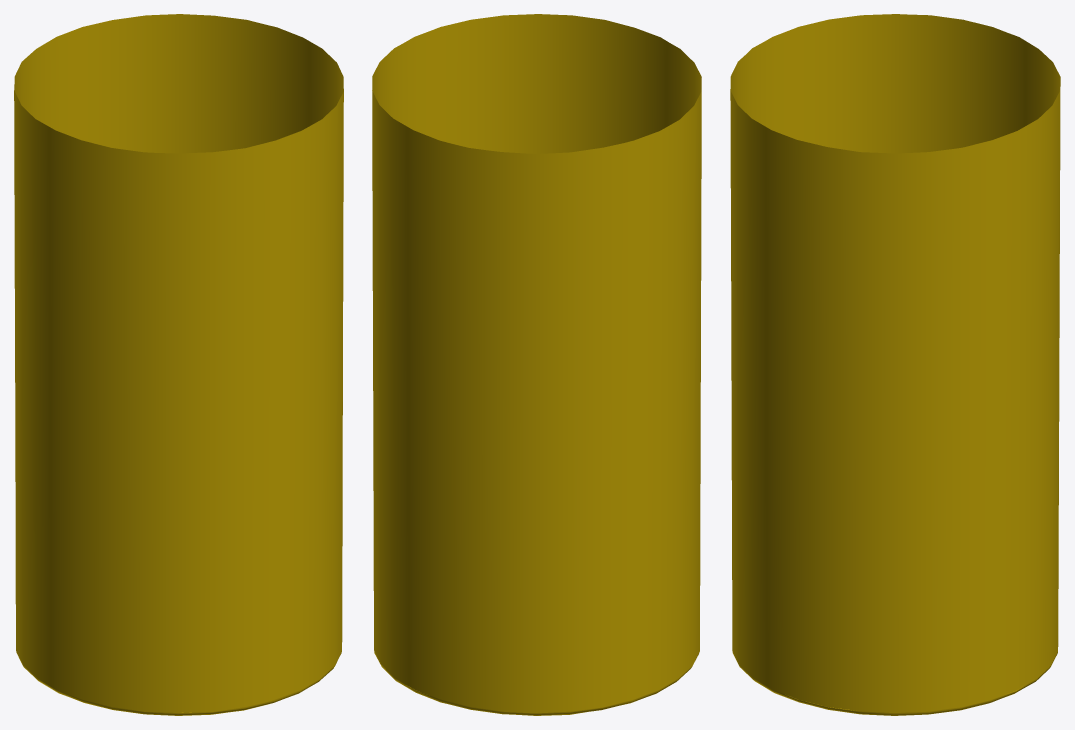
Rendered from original_2.obj.
The picture shows the model from 3 angles, left to right: view 1: azimuth 30°, elevation 25°; view 2: azimuth 150°, elevation 25°; view 3: azimuth 270°, elevation 25°; orthographic projection.
Visible parts, largest first — view 1: group_1/ID15#ID15; view 2: group_1/ID15#ID15; view 3: group_1/ID15#ID15.
Boxes of the visible parts, left/top/right/bottom form: group_1/ID15#ID15: left=14, top=14, right=343, bottom=715; group_1/ID15#ID15: left=372, top=14, right=701, bottom=715; group_1/ID15#ID15: left=730, top=14, right=1060, bottom=715.
Bounding box in the file's own units: 0.1186 × 0.2231 × 0.1181.
